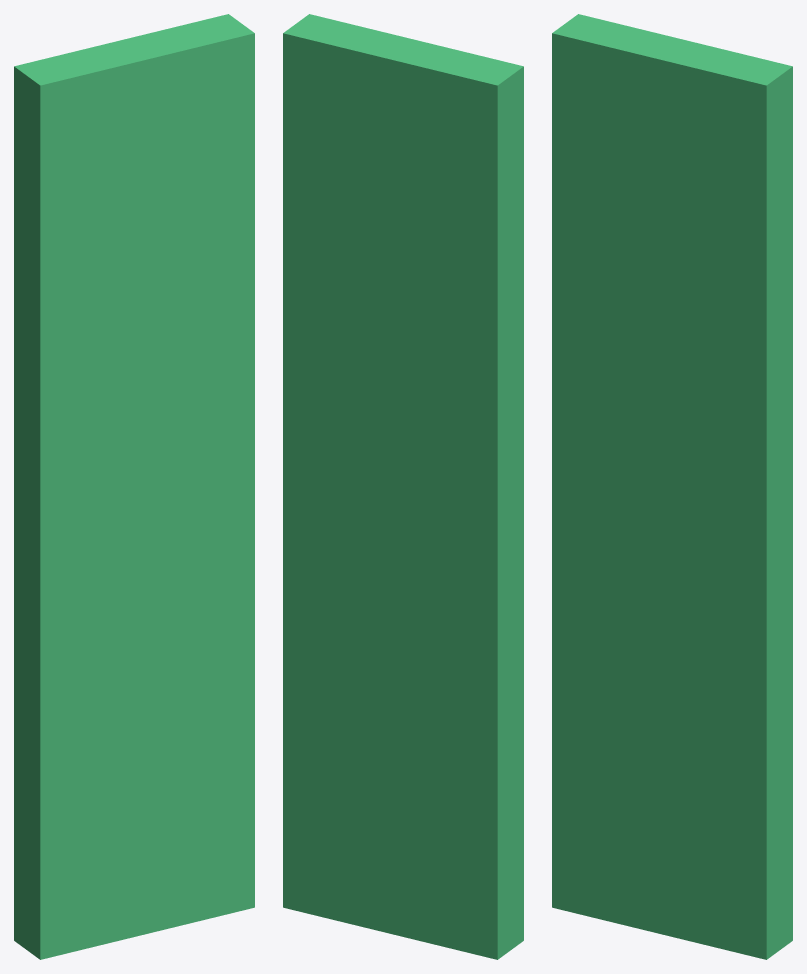
Rendered from stop_sign.dae.
The picture shows the model from 3 angles, left to right: view 1: azimuth 30°, elevation 25°; view 2: azimuth 150°, elevation 25°; view 3: azimuth 330°, elevation 25°; orthographic projection.
Visible parts, largest first — view 1: Colmesh-1; view 2: Colmesh-1; view 3: Colmesh-1.
Part boxes in pixels (x1=…): Colmesh-1: x1=14, y1=14, x2=254, y2=959; Colmesh-1: x1=283, y1=14, x2=523, y2=959; Colmesh-1: x1=552, y1=14, x2=792, y2=959.
Bounding box in the file's own units: 28.26 × 6 × 110.
